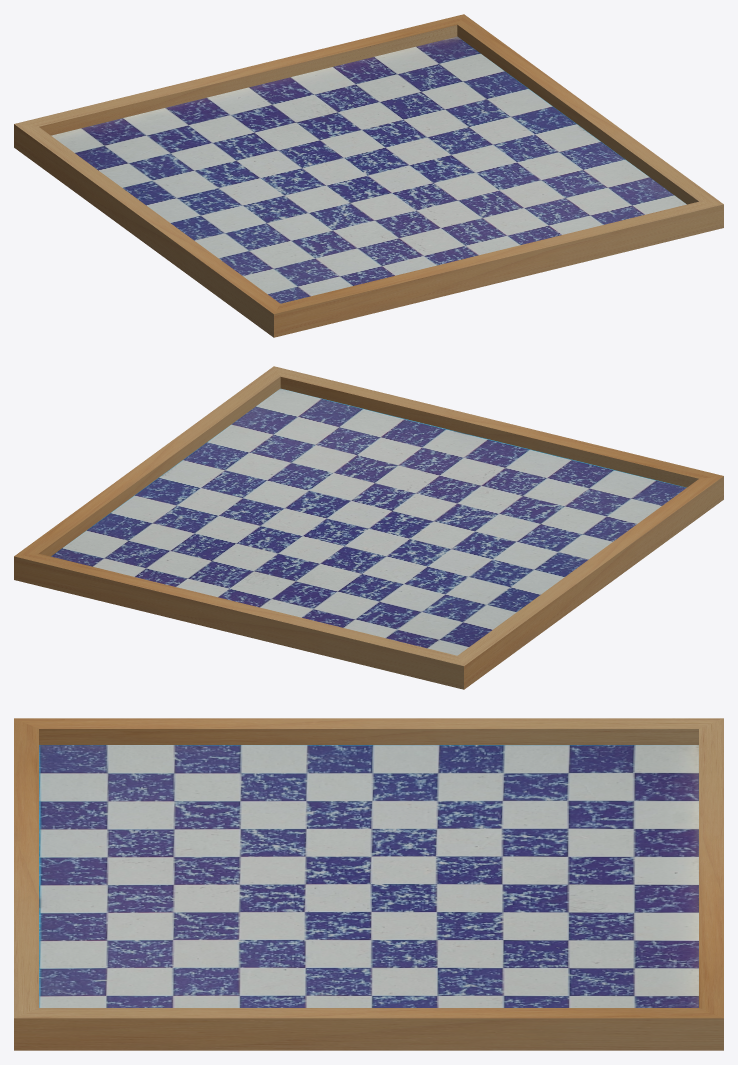
File: jeu_de_dames.dae
3 renders of one model, top to bottom at view 1: azimuth 30°, elevation 25°; view 2: azimuth 150°, elevation 25°; view 3: azimuth 270°, elevation 25°, orthographic. The views are drawn at different scales.
Visible parts, largest first — view 1: Cube; view 2: Cube; view 3: Cube.
Part boxes in pixels (x1,y1,x2,y2): Cube: (14, 14, 723, 337); Cube: (14, 366, 723, 689); Cube: (14, 718, 723, 1050).
Size of the model in its own units: 20 by 20 by 1.
2 materials, 2 textured.
